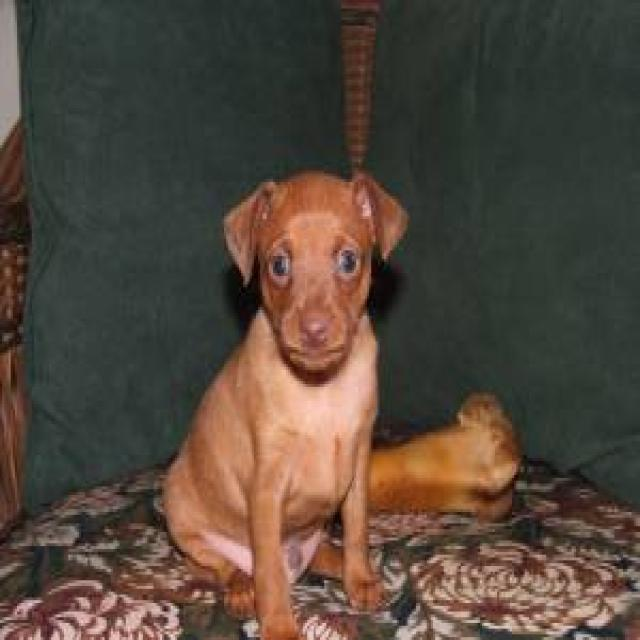dog-miniature_pinscher: (154, 162, 416, 634)
